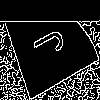J: (25, 25, 66, 67)
